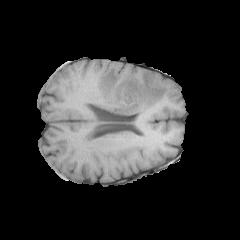glioma: (89, 66, 168, 115)
